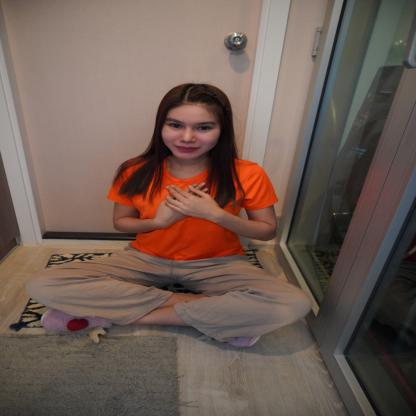Grieve: (156, 183, 221, 228)
